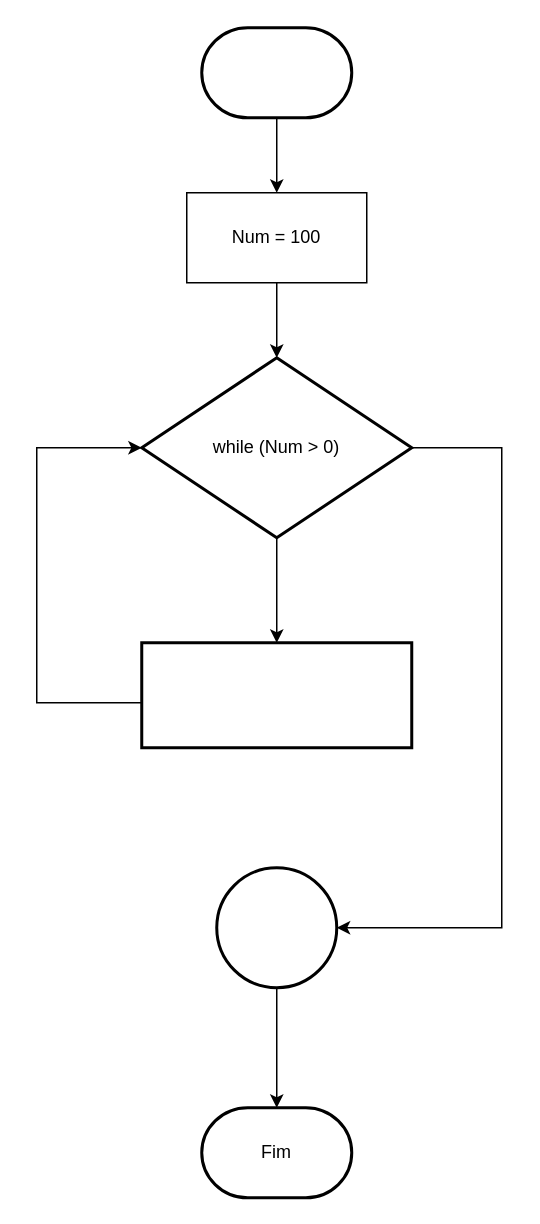
Image size: 540x1224. Some labels were removed from this diagram. The shapes that lost their labels are listed below. From the top down, each one's centre as x and y in pixels, then its label:
point 276,72: Inicio
point 276,694: Num + "<br>" Num = Num - 2
